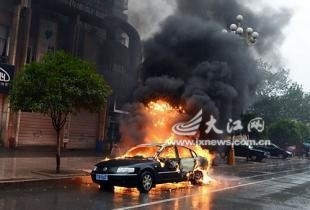fire: (102, 97, 214, 189)
